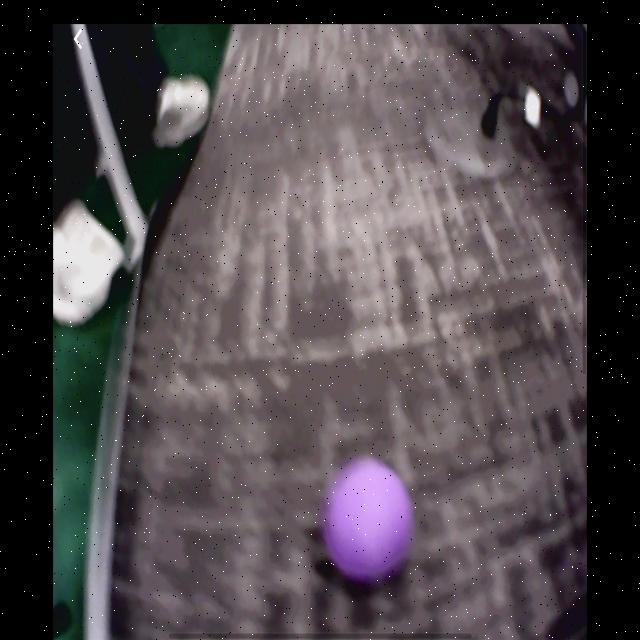ball: (321, 460, 414, 584)
